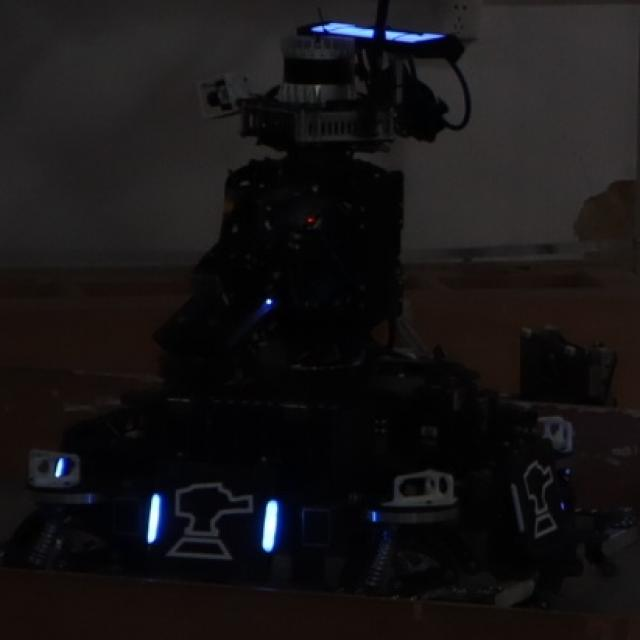Rs: (144, 481, 284, 562)
